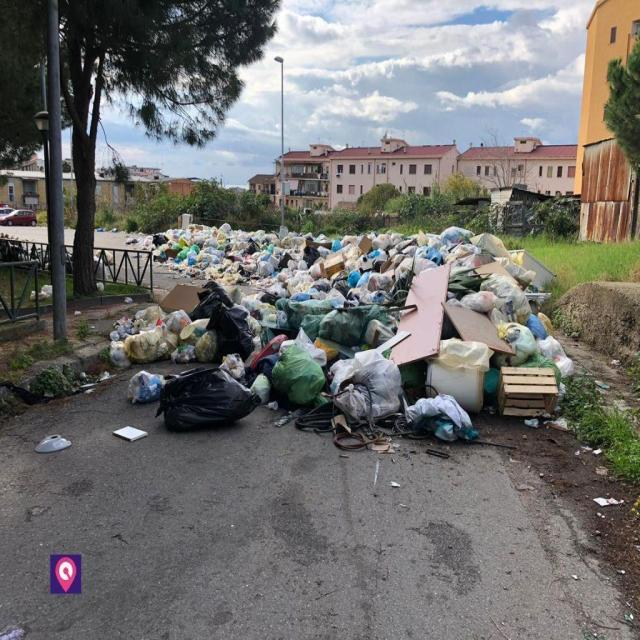garbage: (112, 204, 575, 469)
